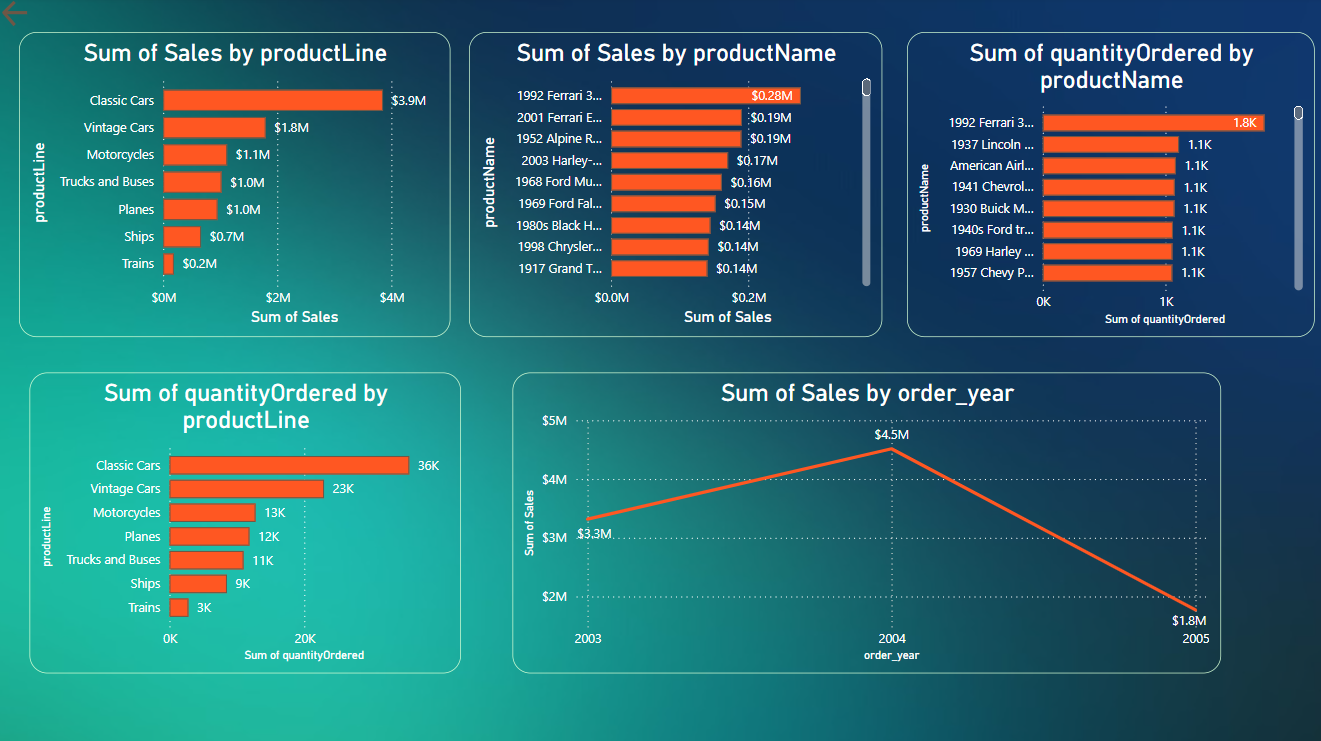

This screenshot's page, from the dashboard's own definition file:
{"tool":"powerbi","page":{"name":"Detailed View","canvas":[1280,720],"ordinal":1},"visuals":[{"type":"barChart","fields":{"Category":["products.productLine"],"Y":["Sum(order_details.Sales)"]},"box":[26.5,34,412,291],"z":0},{"type":"barChart","fields":{"Category":["products.productLine"],"Y":["Sum(order_details.quantityOrdered)"]},"box":[35.9,359.1,412,287.2],"z":1000},{"type":"barChart","fields":{"Y":["Sum(order_details.Sales)"],"Category":["products.productName"]},"box":[455.4,34,395,291],"z":2000},{"type":"barChart","fields":{"Category":["products.productName"],"Y":["Sum(order_details.quantityOrdered)"]},"box":[873.1,34,389.3,291],"z":3000},{"type":"lineChart","fields":{"Category":["orders.order_year"],"Y":["Sum(order_details.Sales)"]},"box":[497,359.1,676.5,287.2],"z":4000},{"type":"actionButton","box":[6.4,0,50.9,33.4],"z":5000}]}

Visuals, with their boxes in screenshot pixels (x1, y1, x2, y2), scaled from the page's 1280x720 canvas onto the 1321x741 screenshot:
barChart - products.productLine x Sum(order_details.Sales): [x1=27, y1=35, x2=453, y2=334]
barChart - products.productLine x Sum(order_details.quantityOrdered): [x1=37, y1=370, x2=462, y2=665]
barChart - Sum(order_details.Sales) x products.productName: [x1=470, y1=35, x2=878, y2=334]
barChart - products.productName x Sum(order_details.quantityOrdered): [x1=901, y1=35, x2=1303, y2=334]
lineChart - orders.order_year x Sum(order_details.Sales): [x1=513, y1=370, x2=1211, y2=665]
actionButton: [x1=7, y1=0, x2=59, y2=34]
